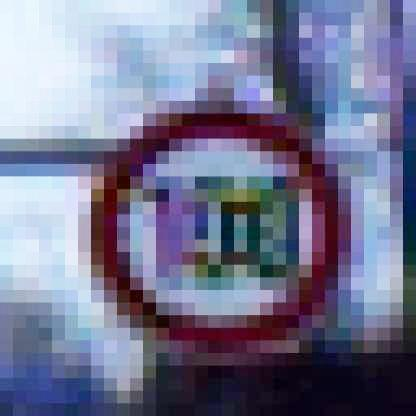Speed Limit -100-: (80, 100, 348, 356)
